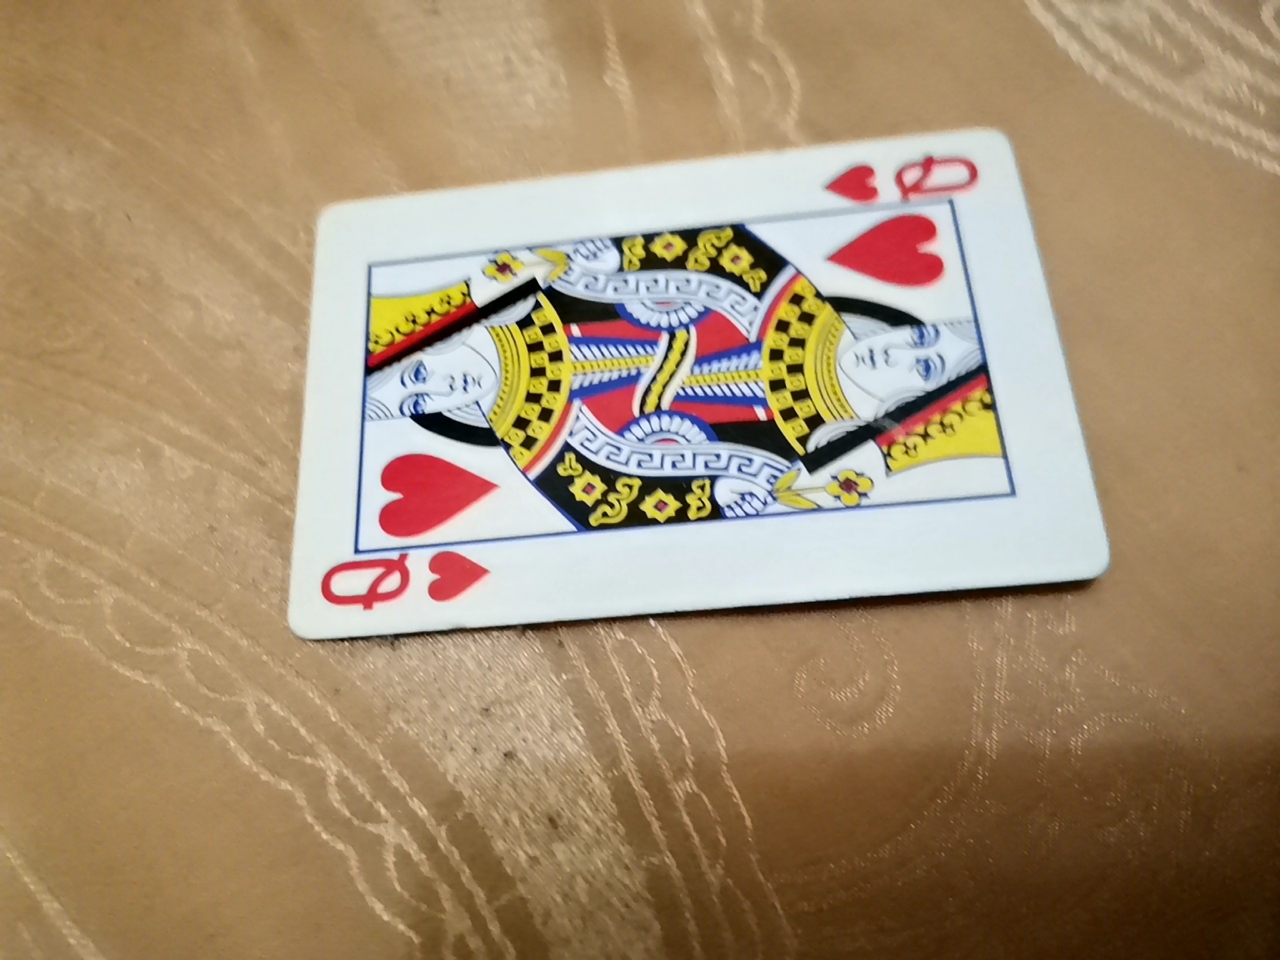hx q: (168, 74, 1073, 626)
